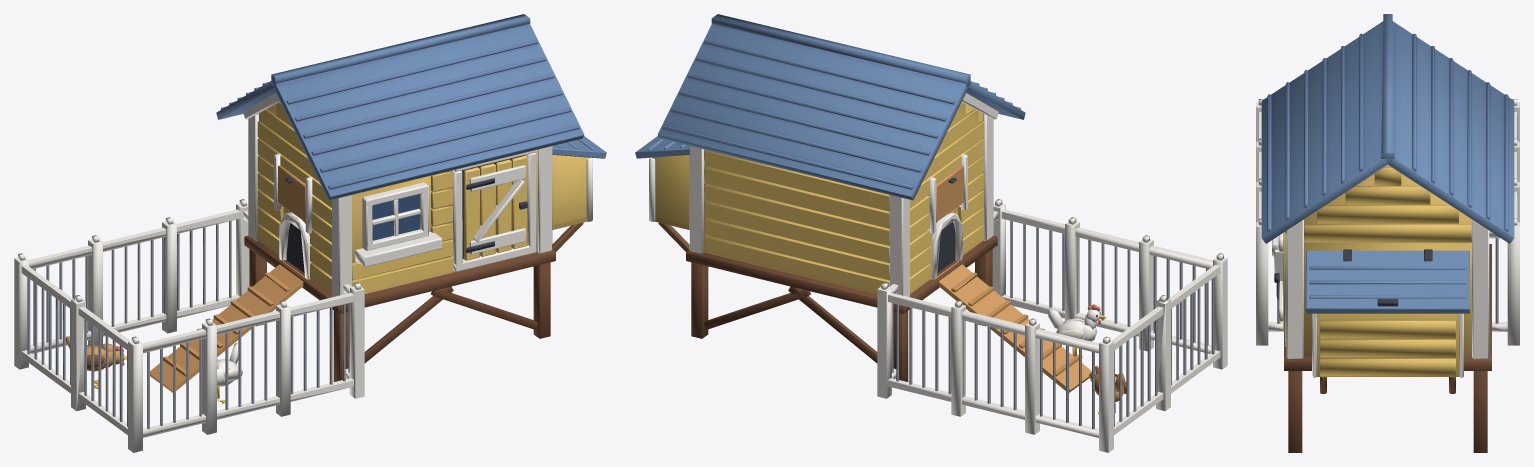
File: kandang_simplify.glb
The picture shows the model from 3 angles, left to right: view 1: azimuth 30°, elevation 25°; view 2: azimuth 150°, elevation 25°; view 3: azimuth 270°, elevation 25°; orthographic projection. The views are drawn at different scales.
Visible parts, largest first — view 1: chicken-coop_body, chicken-coop_run, chicken-coop_details, chicken-coop_run_wire, chicken-coop_door, chicken-coop_nest_lid; view 2: chicken-coop_body, chicken-coop_run, chicken-coop_run_wire, chicken-coop_details, chicken-coop_nest_lid; view 3: chicken-coop_body, chicken-coop_nest_lid, chicken-coop_details, chicken-coop_run, chicken-coop_door, chicken-coop_run_wire.
Boxes of the visible parts, x1,y1,x2,y2 form: chicken-coop_body: (216,14,589,381); chicken-coop_run: (14,199,364,452); chicken-coop_details: (243,93,592,296); chicken-coop_run_wire: (27,221,349,429); chicken-coop_door: (464,155,527,260); chicken-coop_nest_lid: (552,136,606,158); chicken-coop_body: (652,14,1025,381); chicken-coop_run: (877,199,1227,452); chicken-coop_run_wire: (892,221,1214,429); chicken-coop_details: (649,93,998,296); chicken-coop_nest_lid: (635,136,689,158); chicken-coop_body: (1261,14,1514,452); chicken-coop_nest_lid: (1306,249,1469,313); chicken-coop_details: (1272,164,1489,393); chicken-coop_run: (1256,99,1519,345); chicken-coop_door: (1274,232,1284,330); chicken-coop_run_wire: (1277,238,1498,323).
Bounding box in the file's own units: 3.62 × 1.99 × 1.51.
18 materials, 1 textured.
